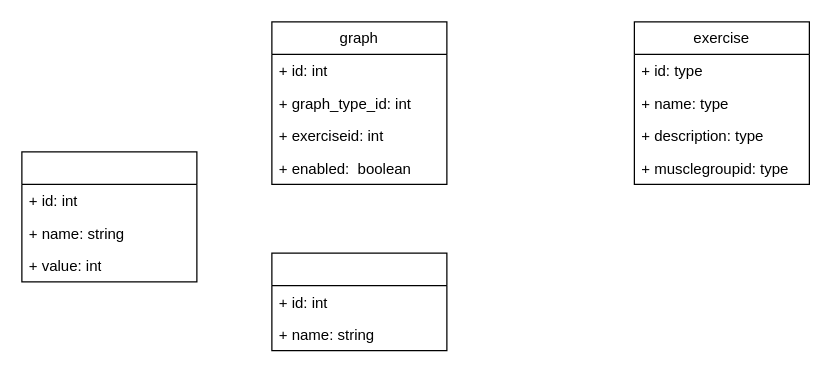
Some shapes in this 831 by 376 pixel diagram are drawn without their labels. Here are the shapes that lost their labels. From the top down, the box of each, then its label:
(21, 151, 197, 282): graph_duration
(271, 252, 447, 351): graph_type
